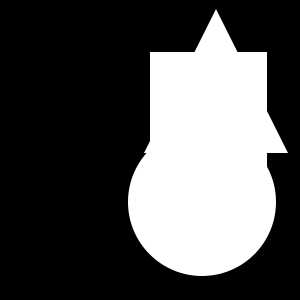circle: (150, 52, 267, 169)
rectangle: (128, 128, 276, 276)
triangle: (144, 9, 288, 153), (170, 143, 245, 218), (186, 193, 225, 232)
